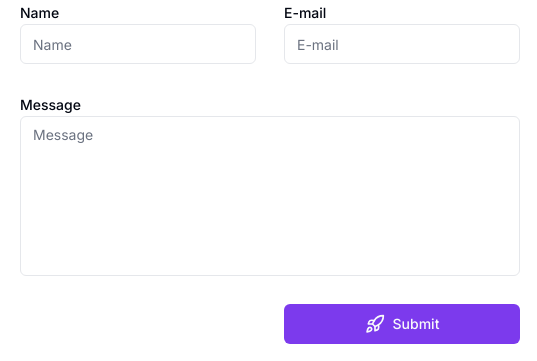
Scenario: FeedbackForm › displays error messages for empty fields on submit
The image size is (537, 361).
Click the button "Submit": {"x": 402, "y": 324} [284, 304, 520, 344]
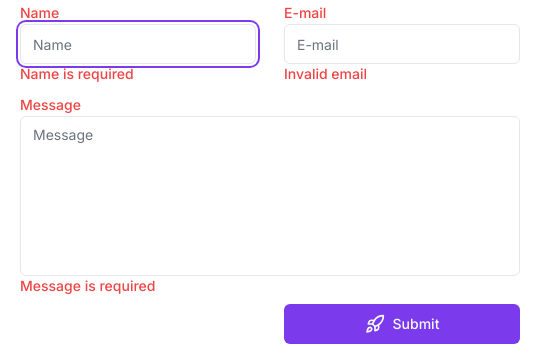
Expected: the text "Name is required" is shown, [20, 64, 134, 84]
Expected: the text "Invalid email" is shown, [284, 64, 367, 84]
Expected: the text "Message is required" is shown, [20, 276, 156, 296]
